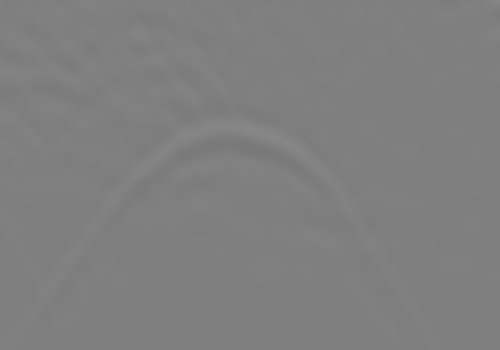hyperbola: (62, 111, 385, 320)
